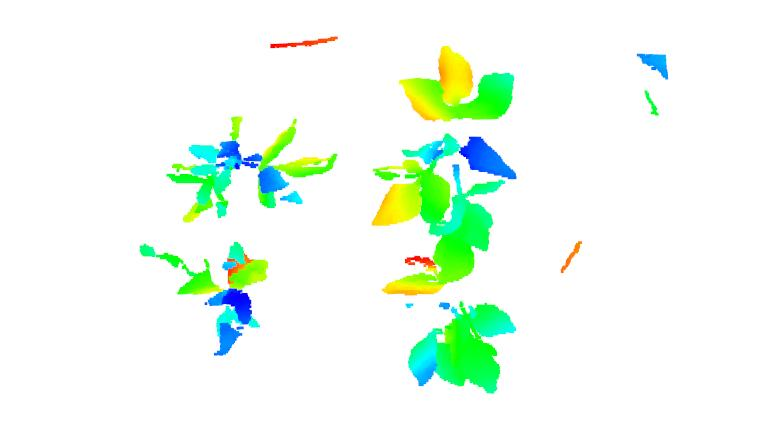mungbean: (370, 34, 523, 237), (379, 219, 524, 394), (162, 111, 338, 222), (135, 236, 274, 356)
